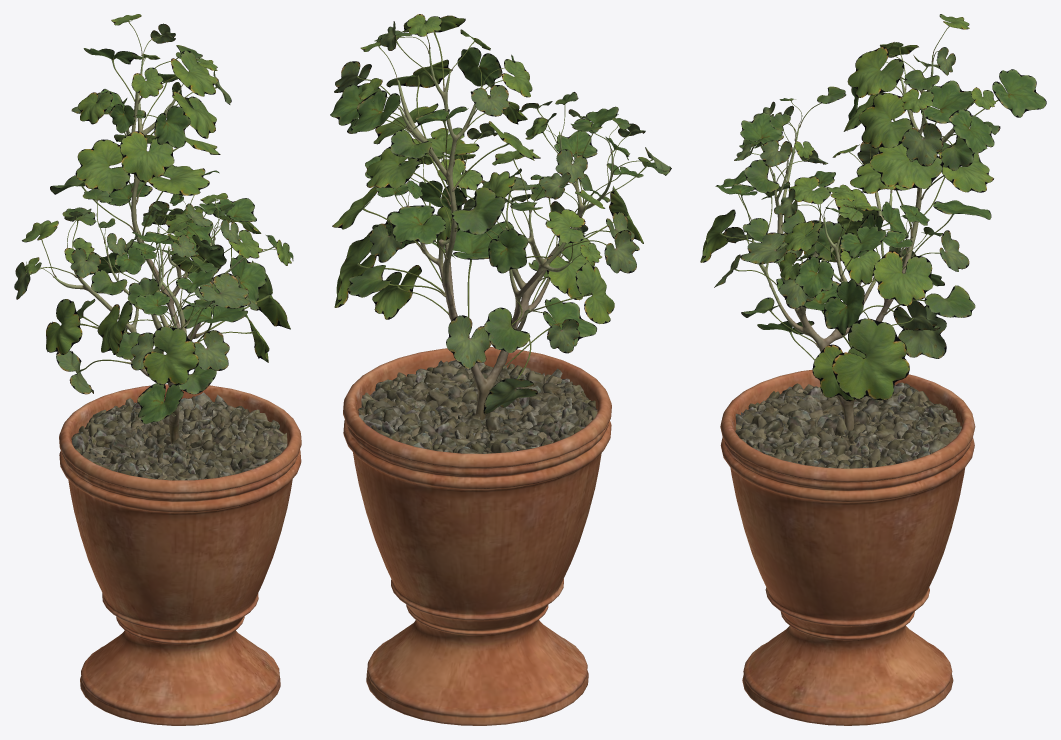
Rendered from potted_plant_01_512.gltf.
The picture shows the model from 3 angles, left to right: view 1: azimuth 30°, elevation 25°; view 2: azimuth 150°, elevation 25°; view 3: azimuth 270°, elevation 25°; orthographic projection. The views are drawn at different scales.
Visible parts, largest first — view 1: potted_plant_01_pot, potted_plant_01_leaves, potted_plant_01_pebbles, potted_plant_01_stem; view 2: potted_plant_01_pot, potted_plant_01_leaves, potted_plant_01_pebbles, potted_plant_01_stem; view 3: potted_plant_01_pot, potted_plant_01_leaves, potted_plant_01_pebbles, potted_plant_01_stem.
Part boxes in pixels (x1=…): potted_plant_01_pot: x1=59, y1=384, x2=301, y2=725; potted_plant_01_leaves: x1=14, y1=14, x2=293, y2=423; potted_plant_01_pebbles: x1=71, y1=392, x2=287, y2=480; potted_plant_01_stem: x1=53, y1=54, x2=244, y2=443; potted_plant_01_pot: x1=343, y1=347, x2=611, y2=725; potted_plant_01_leaves: x1=330, y1=14, x2=671, y2=414; potted_plant_01_pebbles: x1=358, y1=360, x2=597, y2=453; potted_plant_01_stem: x1=397, y1=49, x2=612, y2=420; potted_plant_01_pot: x1=720, y1=369, x2=975, y2=725; potted_plant_01_leaves: x1=700, y1=14, x2=1046, y2=401; potted_plant_01_pebbles: x1=735, y1=382, x2=961, y2=468; potted_plant_01_stem: x1=751, y1=55, x2=966, y2=431.
Bounding box in the file's own units: 0.5874 × 1.34 × 0.6336.
Materials: 2 (2 with a texture image).
